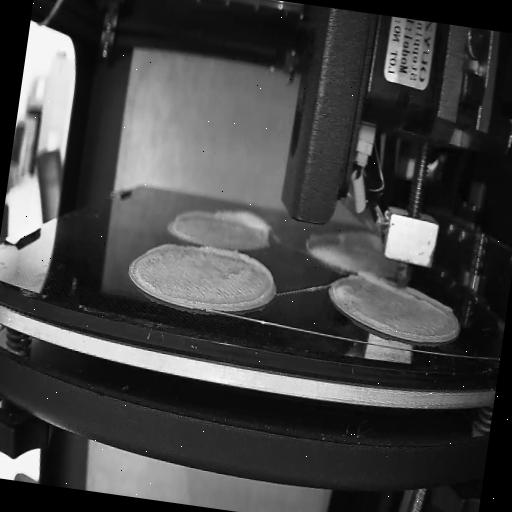over_extrusion: (193, 242, 278, 317), (214, 202, 278, 244), (401, 290, 451, 318), (356, 268, 399, 296), (172, 203, 212, 229), (146, 236, 181, 260)
